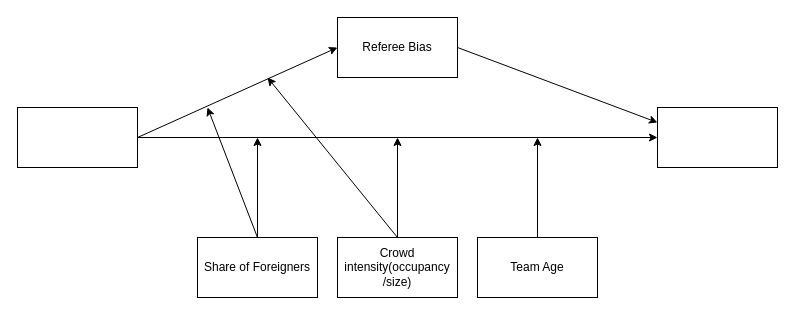
Some shapes in this 795 by 315 pixel diagram are drawn without their labels. Each missing label, with the box of its shape:
Crowd support: (16, 106, 138, 168)
Team Performance: (656, 106, 778, 168)
